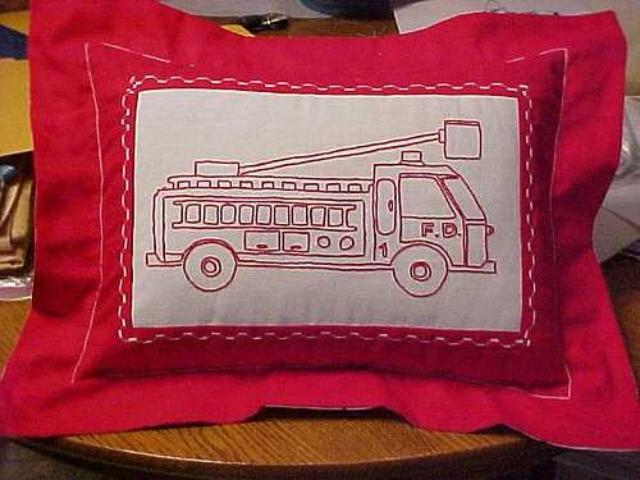pillow: (2, 1, 636, 449)
